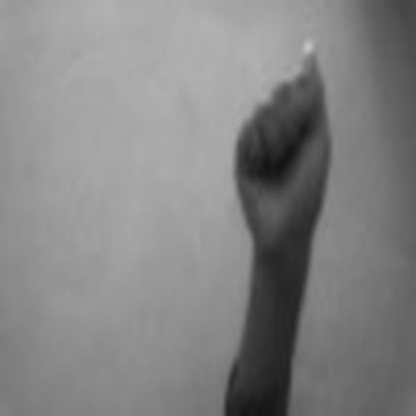a: (228, 53, 338, 245)
